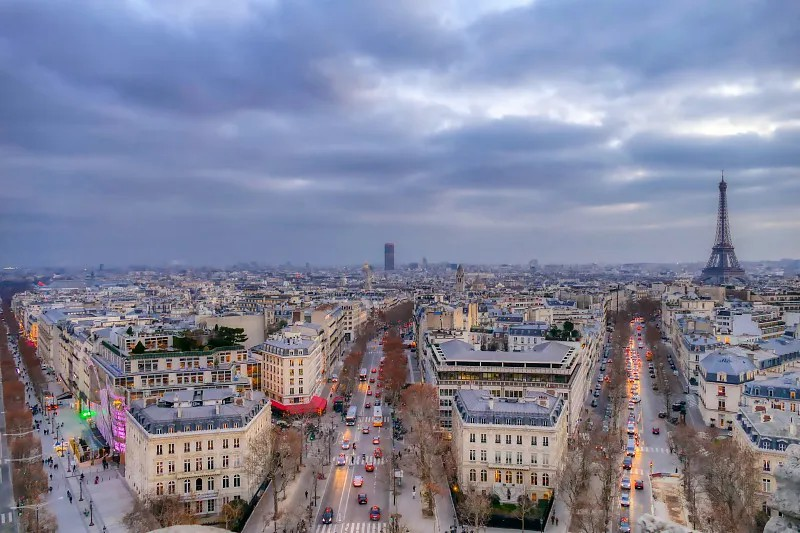Eiffel: (698, 170, 749, 287)
